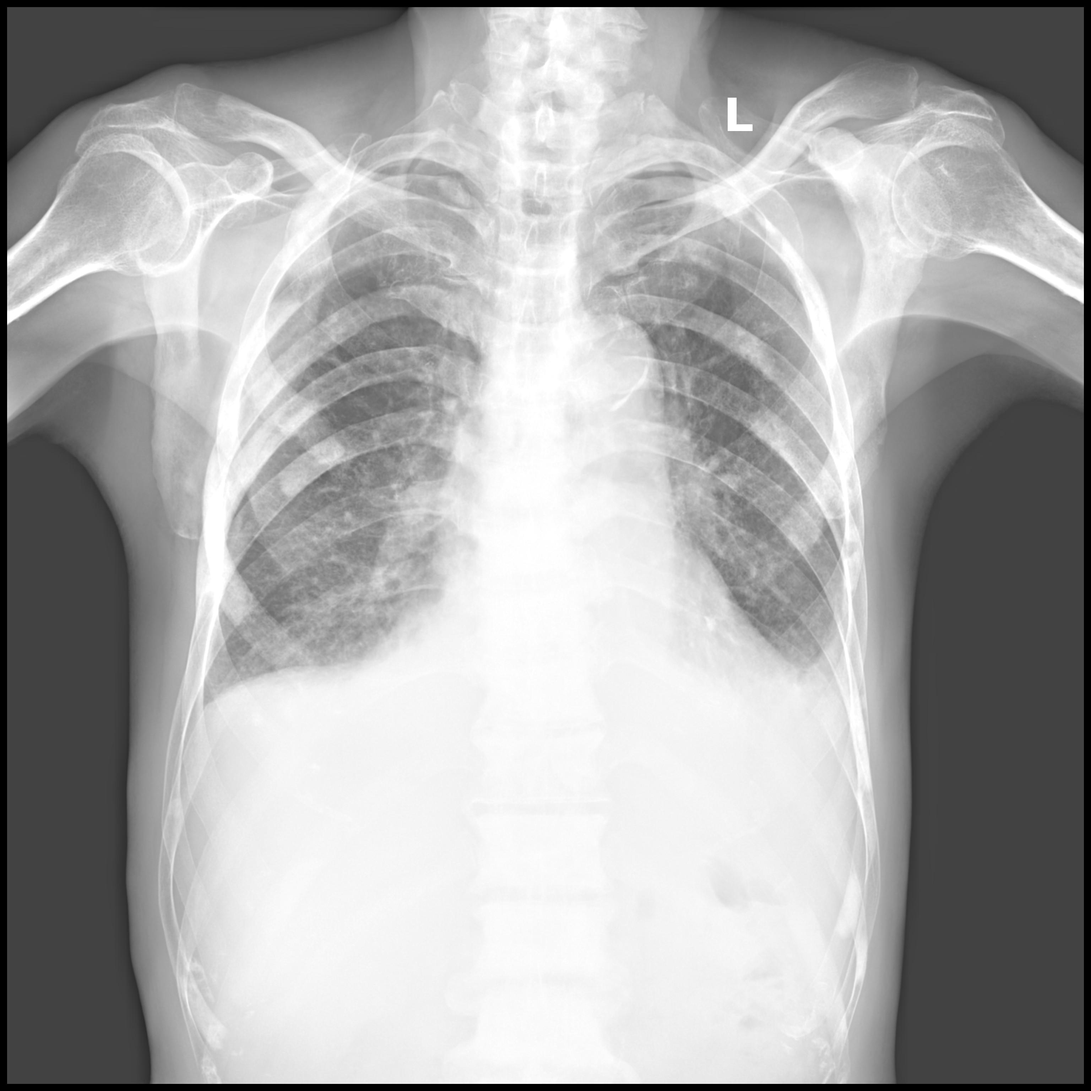Aortic enlargement: (542, 315, 663, 440)
Pleural thickening: (772, 602, 880, 785), (365, 153, 463, 177), (624, 159, 718, 181)
